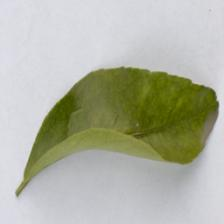healthy: (15, 64, 220, 199)
